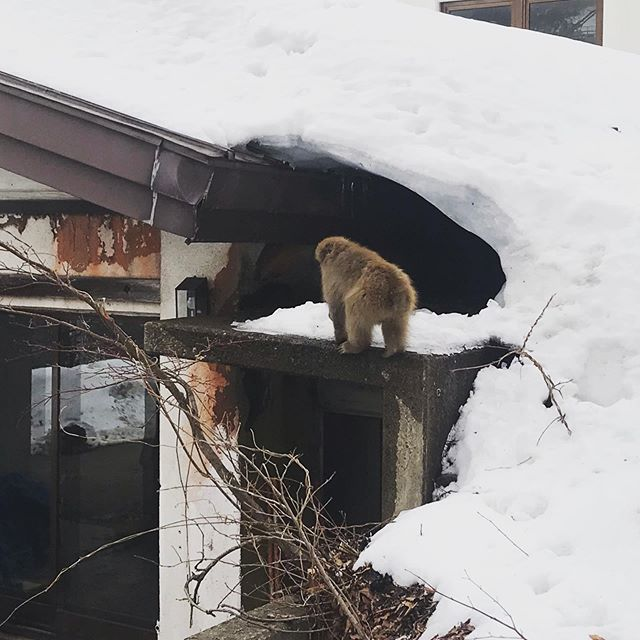animal: (294, 241, 421, 370)
building: (5, 61, 465, 640)
